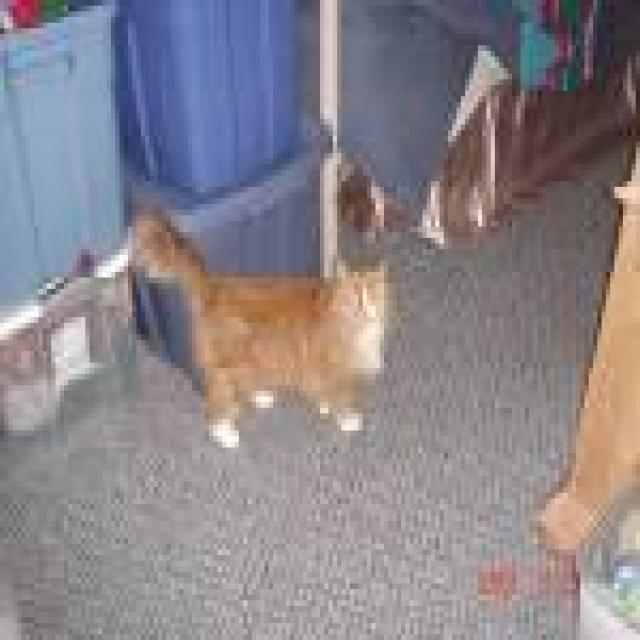Cats: (124, 198, 392, 448)
